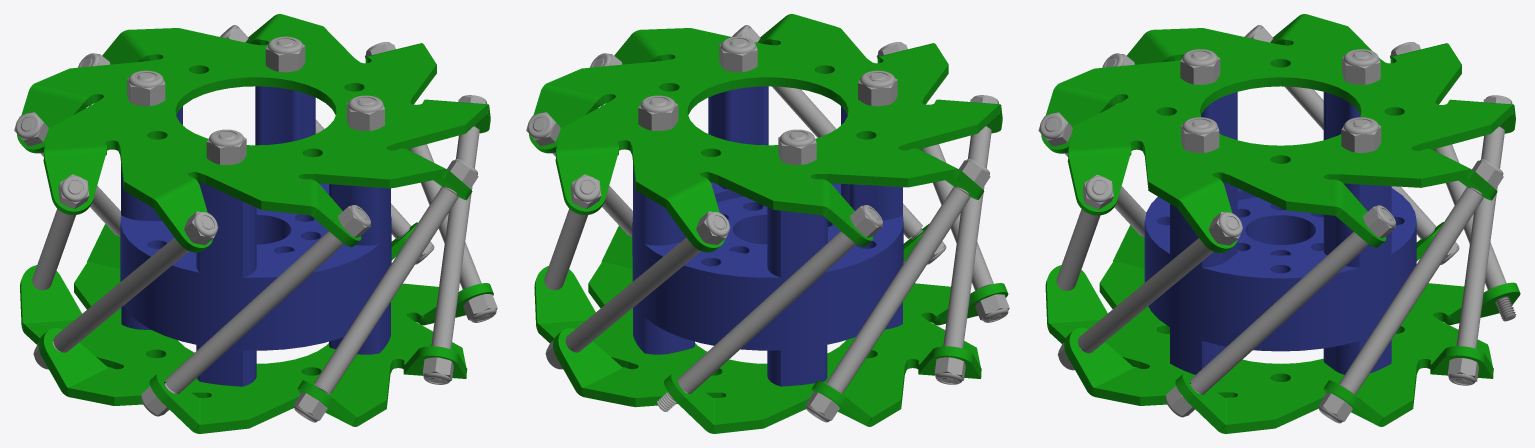
The model's file is leftFront-inner.fbx.
The picture shows the model from 3 angles, left to right: view 1: azimuth 30°, elevation 25°; view 2: azimuth 150°, elevation 25°; view 3: azimuth 270°, elevation 25°; orthographic projection.
Parts seen in each view (by area): view 1: Body1 (×24); view 2: Body1 (×23); view 3: Body1 (×23).
Boxes of the visible parts, x1,y1,x2,y2 form: Body1 (×24): [14, 14, 497, 433]; Body1 (×23): [526, 14, 1009, 433]; Body1 (×23): [1038, 14, 1520, 433].
Size of the model in its own units: 95.07 by 59 by 95.75.
